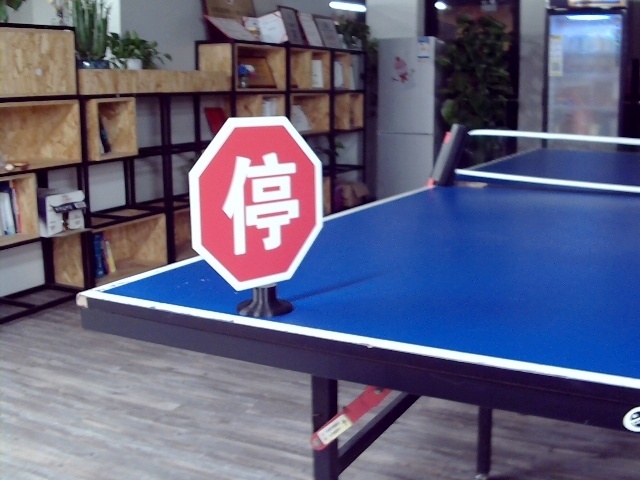stop: (220, 152, 303, 251)
